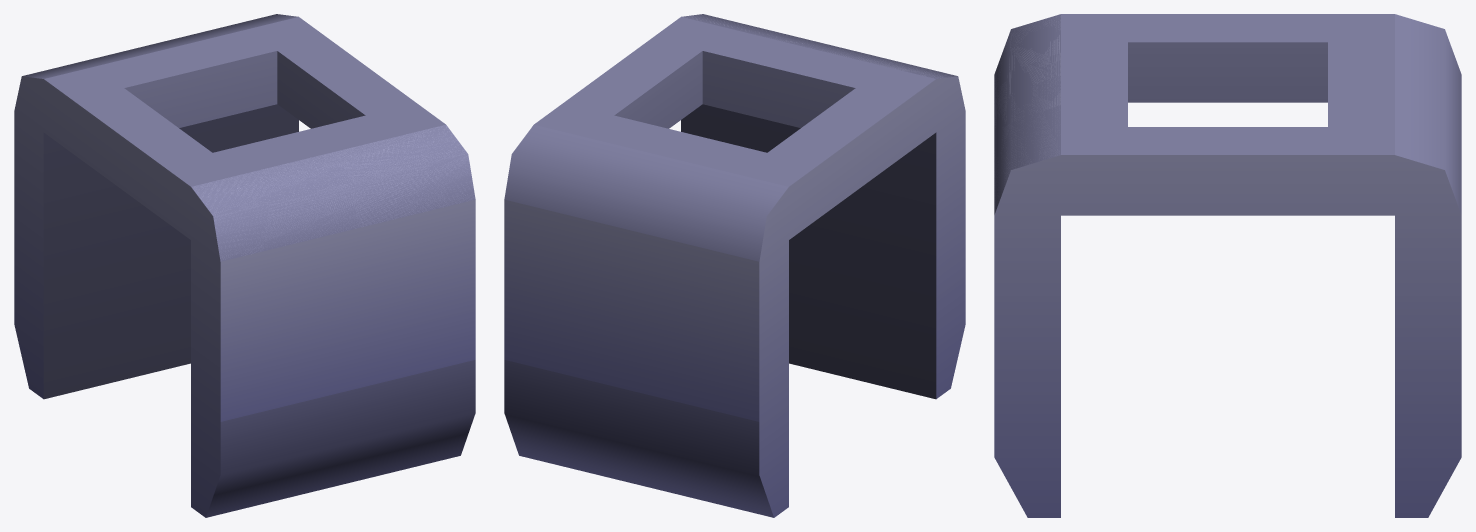
The model's file is cover-top.glb.
3 views of the same model, side by side, from view 1: azimuth 30°, elevation 25°; view 2: azimuth 150°, elevation 25°; view 3: azimuth 270°, elevation 25° (orthographic). The views are drawn at different scales.
Visible parts, largest first — view 1: cover-top; view 2: cover-top; view 3: cover-top.
Part boxes in pixels (<box>): cover-top: <box>14,14,475,517</box>; cover-top: <box>504,14,965,517</box>; cover-top: <box>994,14,1461,517</box>.
Size of the model in its own units: 1 by 1.2 by 1.4.
